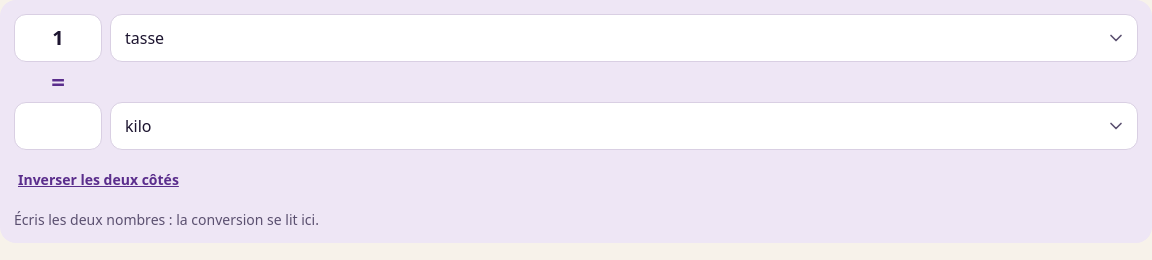
Test: ConversionEquation › suit chaque frappe : le nombre et l’unité changent la phrase
The width and height of the screenshot is (1152, 260).
Check: the element showing "Écris les deux nombres : la conversion se lit ici." is shown, box [14,210,319,229]
Type "125" into the field named "Quantité d" at (58, 126), box [14,102,102,150]
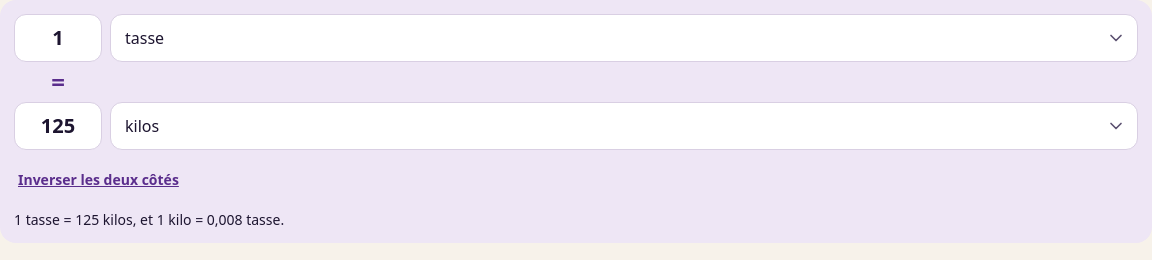
Select "grammes" in the dropdown named "Unité d" at (624, 126), box [110,102,1138,150]
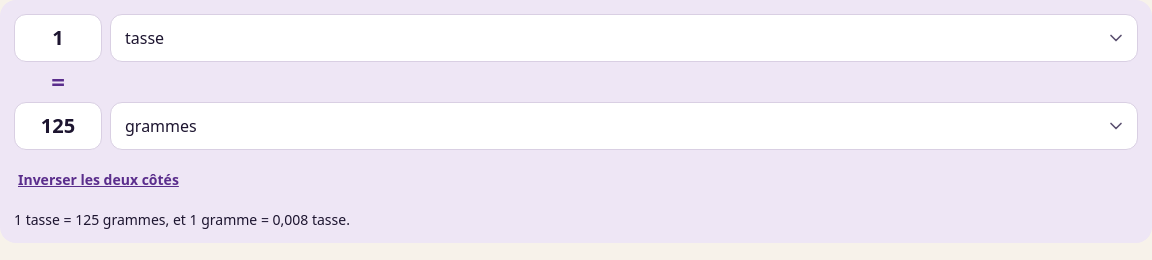
Check: the element showing "1 tasse = 125 grammes, et 1 gramme = 0,008 tasse." is shown, box [14,210,350,229]
